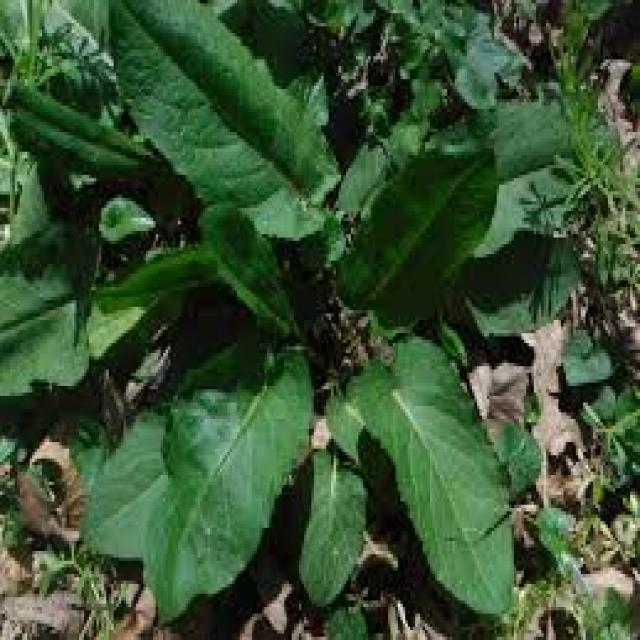organic waste: (32, 0, 598, 640)
